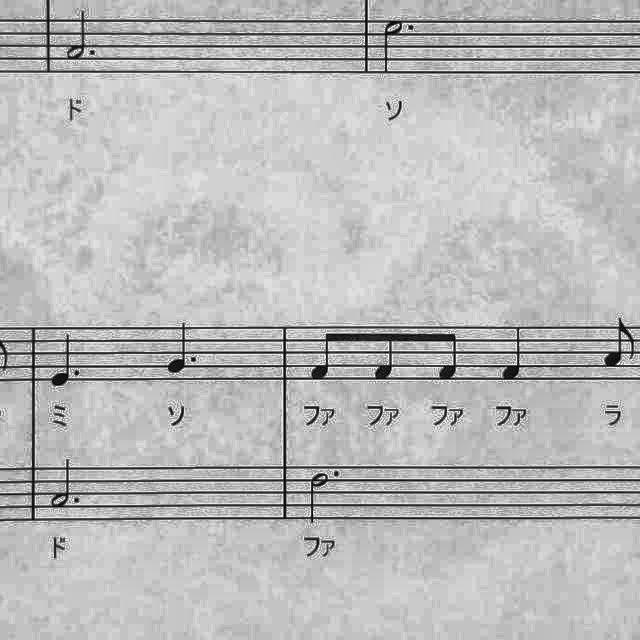Eighth-note: (304, 324, 340, 388), (366, 322, 402, 386), (600, 316, 640, 372), (432, 324, 464, 386)
Half-dot: (377, 12, 419, 78), (303, 467, 343, 528), (48, 456, 88, 516), (62, 11, 102, 67)
Quarter-dot: (162, 316, 202, 384), (47, 331, 87, 394)
Quarter-note: (496, 319, 532, 387)
